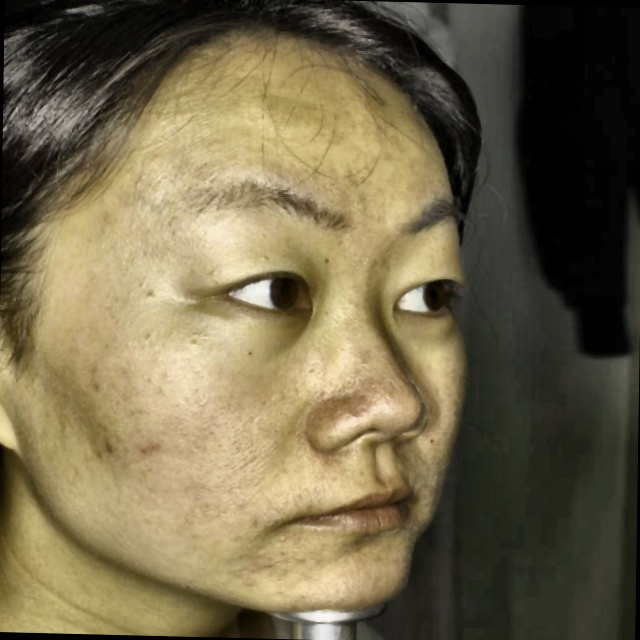comedone: (83, 436, 119, 469), (143, 439, 168, 463)
